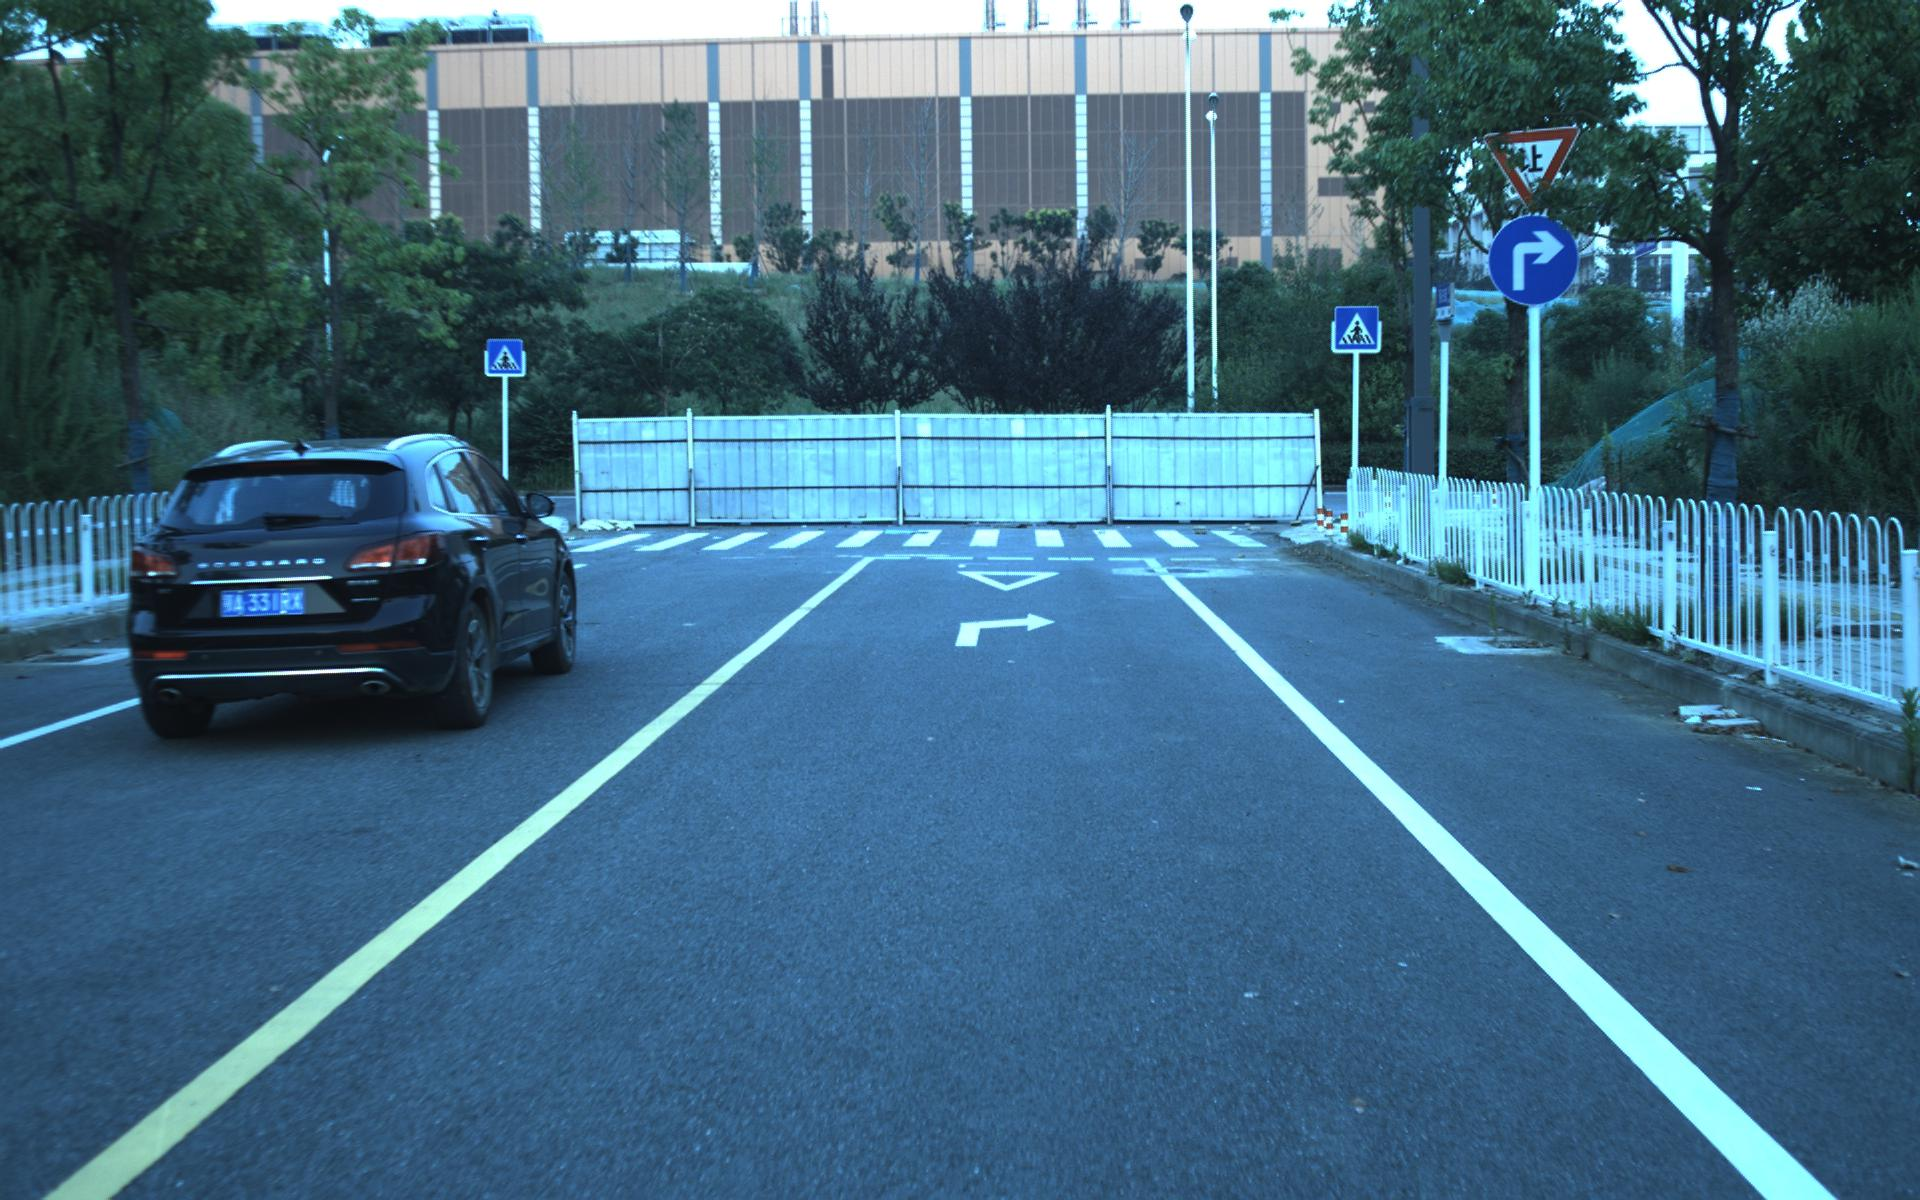Car: (111, 424, 587, 747)
